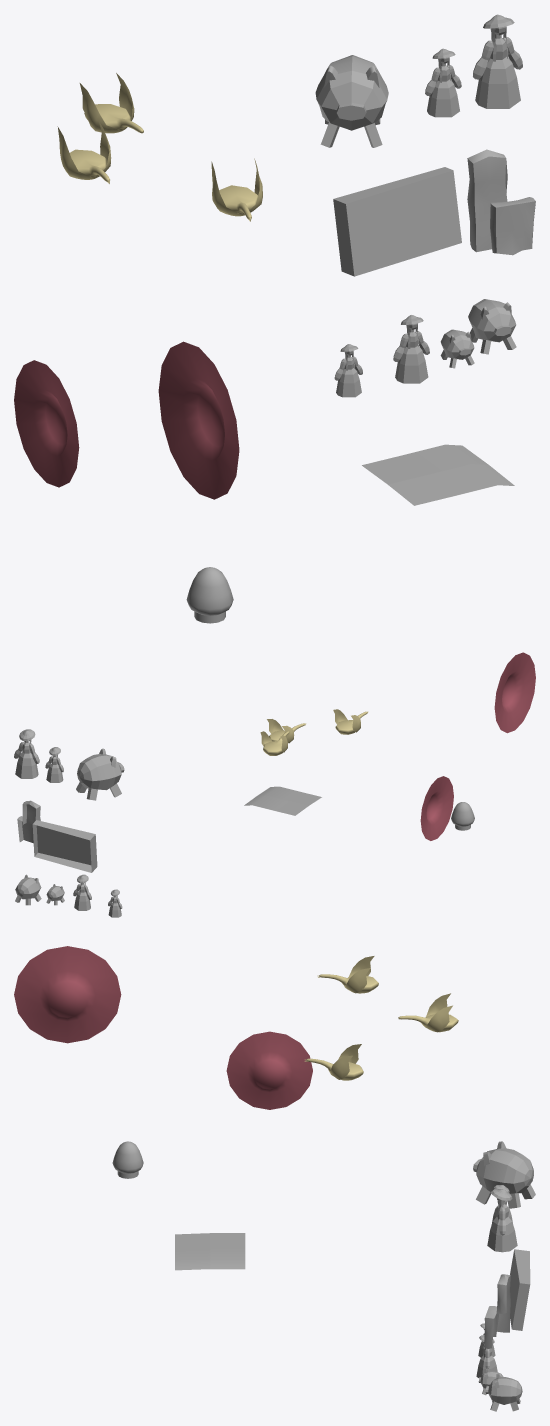
Rendered from objetos pieza actualizados.fbx.
3 renders of one model, top to bottom at view 1: azimuth 30°, elevation 25°; view 2: azimuth 150°, elevation 25°; view 3: azimuth 270°, elevation 25°, orthographic. The views are drawn at different scales.
Parts seen in each view (by area): view 1: polySurface40, polySurface89, polySurface90, polySurface41, polySurface42, polySurface74, polySurface55, polySurface43, polySurface81, polySurface92, polySurface49, polySurface61 (+4 smaller); view 2: polySurface40, polySurface89, polySurface74, polySurface90, polySurface42, polySurface55, polySurface41, polySurface81, polySurface43, polySurface101, polySurface61, polySurface49 (+2 smaller); view 3: polySurface89, polySurface90, polySurface42, polySurface74, polySurface40, polySurface41, polySurface55, polySurface92, polySurface101, polySurface98, polySurface81, polySurface43.
Part boxes in pixels (box(x1,y1,x2,y2)): polySurface40: box(333, 167, 461, 276); polySurface89: box(158, 341, 239, 499); polySurface90: box(14, 360, 79, 487); polySurface41: box(467, 149, 535, 255); polySurface42: box(362, 444, 514, 505); polySurface74: box(315, 55, 388, 147); polySurface55: box(473, 14, 522, 108); polySurface43: box(186, 567, 233, 623); polySurface81: box(468, 299, 516, 354); polySurface92: box(79, 73, 143, 133); polySurface49: box(425, 48, 461, 117); polySurface61: box(393, 315, 429, 383); polySurface40: box(32, 820, 97, 872); polySurface89: box(494, 652, 535, 733); polySurface74: box(76, 748, 124, 800); polySurface90: box(420, 776, 453, 840); polySurface42: box(244, 786, 321, 815); polySurface55: box(14, 729, 39, 778); polySurface41: box(17, 800, 40, 843); polySurface81: box(15, 874, 41, 905); polySurface43: box(451, 802, 474, 830); polySurface101: box(333, 709, 368, 734); polySurface61: box(73, 874, 91, 910); polySurface49: box(45, 747, 63, 782); polySurface89: box(14, 946, 121, 1043); polySurface90: box(226, 1031, 312, 1109); polySurface42: box(175, 1233, 245, 1270); polySurface74: box(473, 1141, 535, 1208); polySurface40: box(510, 1249, 530, 1330); polySurface41: box(484, 1274, 510, 1348); polySurface55: box(487, 1189, 517, 1252); polySurface92: box(398, 993, 458, 1032); polySurface101: box(317, 956, 378, 993); polySurface98: box(304, 1044, 363, 1080); polySurface81: box(485, 1373, 522, 1411); polySurface43: box(112, 1141, 143, 1178).
Size of the model in its own units: 3.88 by 4.05 by 2.4.
